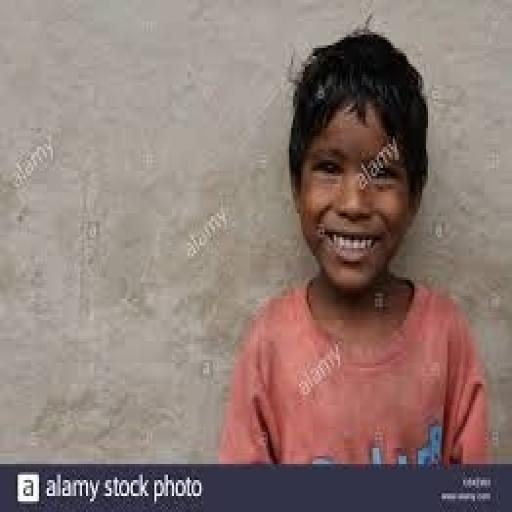laughing: (211, 21, 494, 464)
